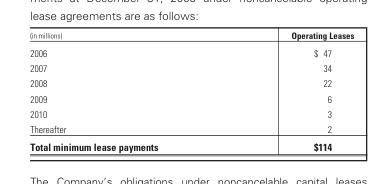table: (28, 29, 353, 152)
table column: (28, 29, 223, 152), (223, 29, 353, 152)
table column header: (28, 29, 353, 43)
table row: (28, 43, 353, 61), (28, 105, 353, 121), (28, 121, 353, 137), (28, 75, 353, 90), (28, 90, 353, 105), (28, 137, 353, 152), (28, 29, 353, 43), (28, 61, 353, 75)
